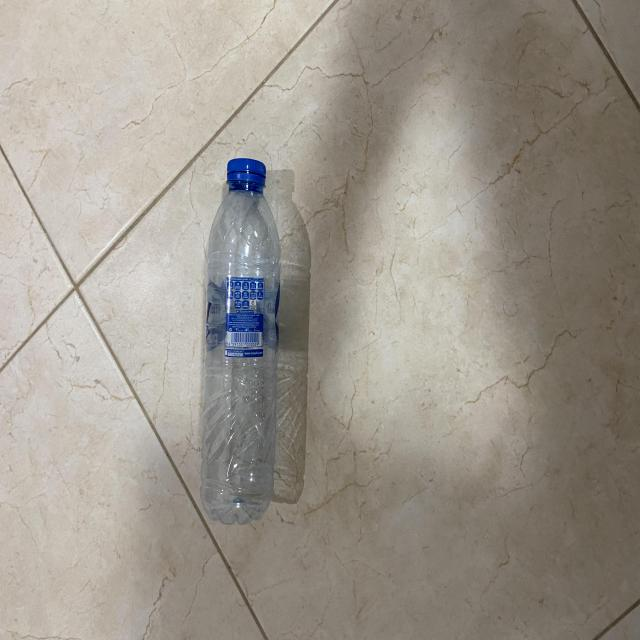bottle: (191, 151, 279, 524)
